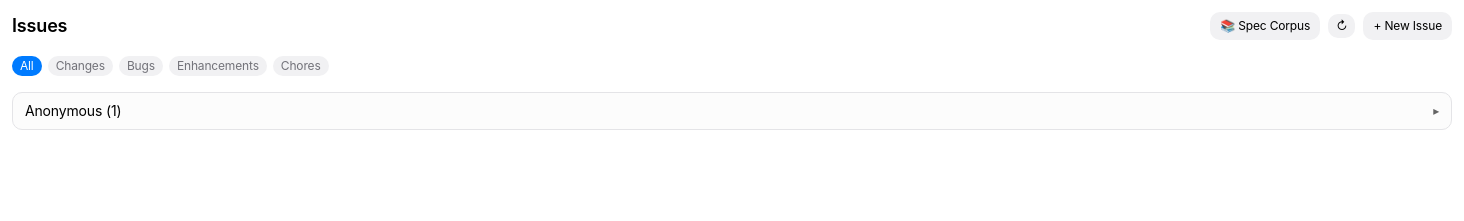
Test: IssueListScreen › expands anonymous list on click
The width and height of the screenshot is (1464, 221).
Click the text "Anonymous (1)". click: click(73, 111)
box: [25,101,121,121]
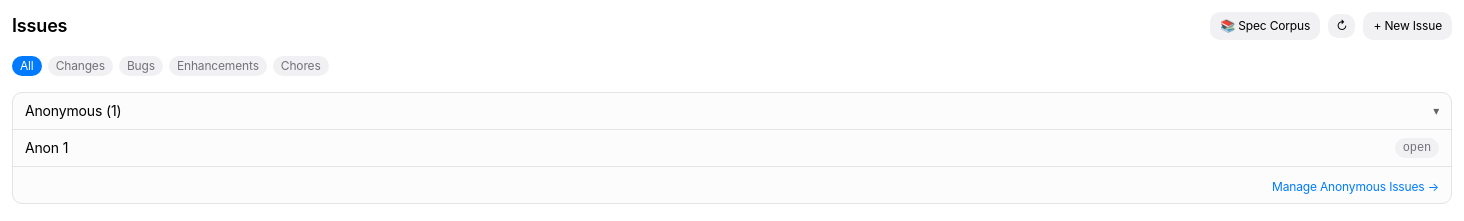
Result: the text "Anon 1" is shown at [25,138,68,158]
